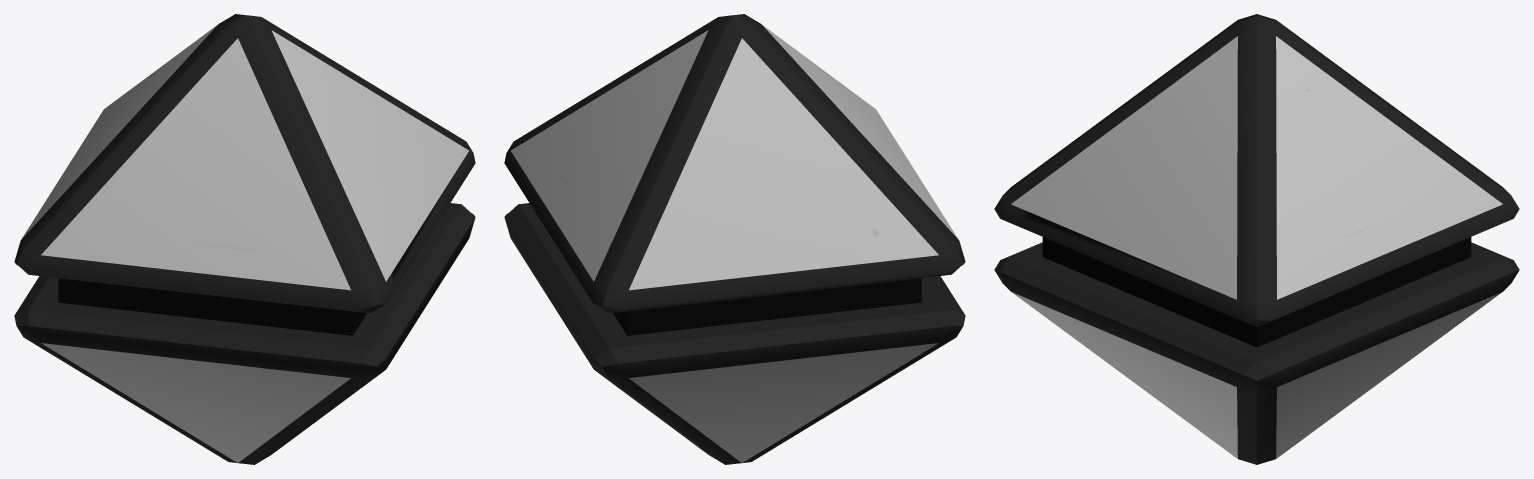
Rendered from Debris_Model.fbx.
3 renders of one model, left to right at view 1: azimuth 30°, elevation 25°; view 2: azimuth 150°, elevation 25°; view 3: azimuth 270°, elevation 25°, orthographic.
Visible parts, largest first — view 1: pCube2; view 2: pCube2; view 3: pCube2.
Part boxes in pixels (box(x1,y1,x2,y2)): pCube2: box(14, 14, 475, 464); pCube2: box(504, 14, 965, 464); pCube2: box(994, 14, 1519, 464).
Bounding box in the file's own units: 432 × 405 × 432.
